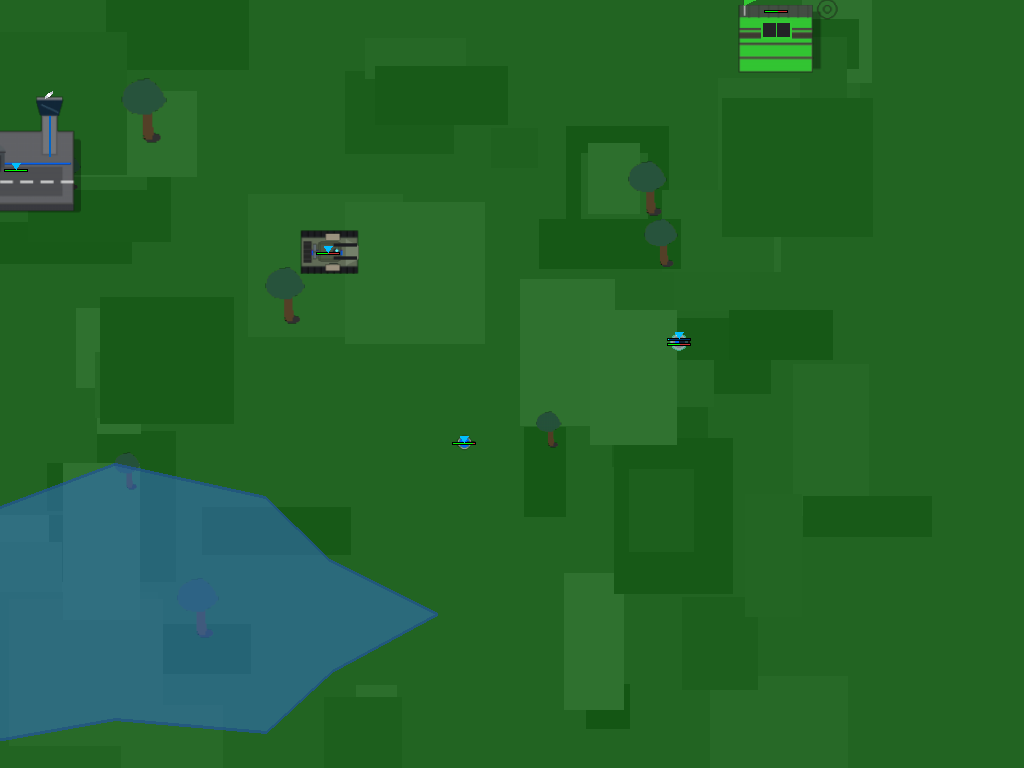APC_chn: (302, 225, 354, 277)
Airfield: (0, 114, 109, 223)
Barracks: (730, 0, 804, 93)
Lake: (0, 464, 437, 750)
Rifleman: (448, 425, 479, 456)
Shotgunner: (664, 326, 695, 357)
